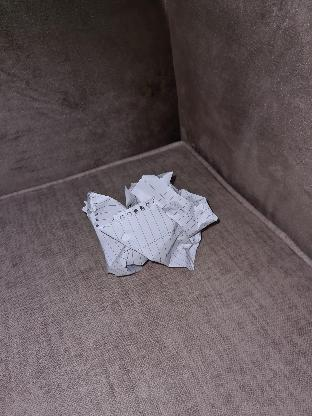Paper: (87, 170, 219, 274)
